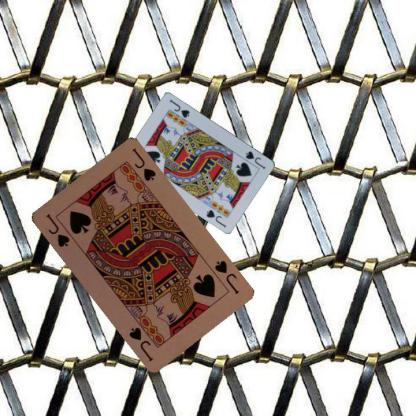Js: (211, 258, 240, 295), (43, 211, 70, 249), (243, 148, 267, 171)
